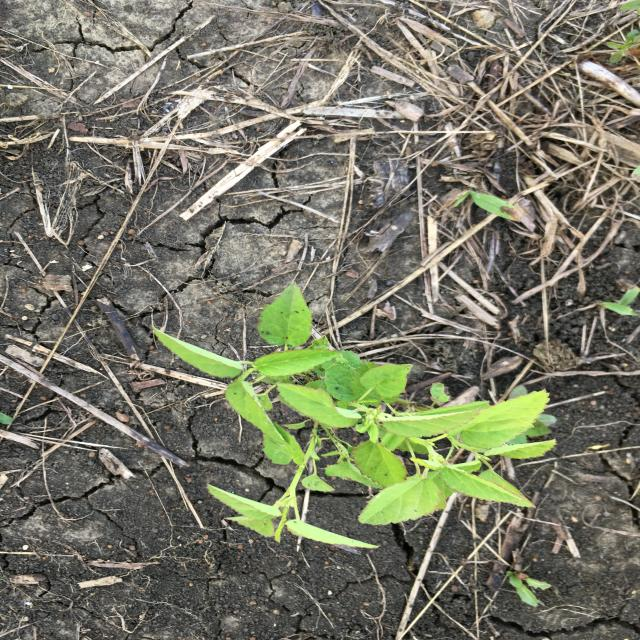PricklySida: (149, 280, 560, 551)
